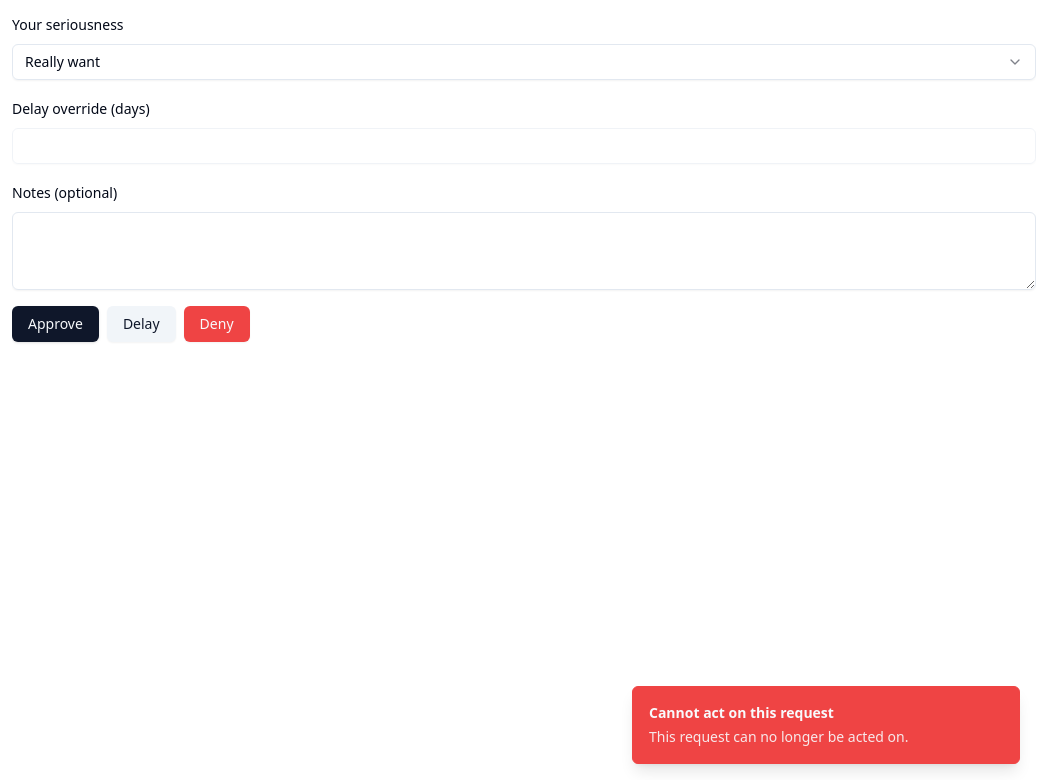
ApproverAction › enables delay override input and shows duration preview when typed
The width and height of the screenshot is (1048, 780).
Step 1. Click the button "Delay" → (141,324), box [107,306,176,342]
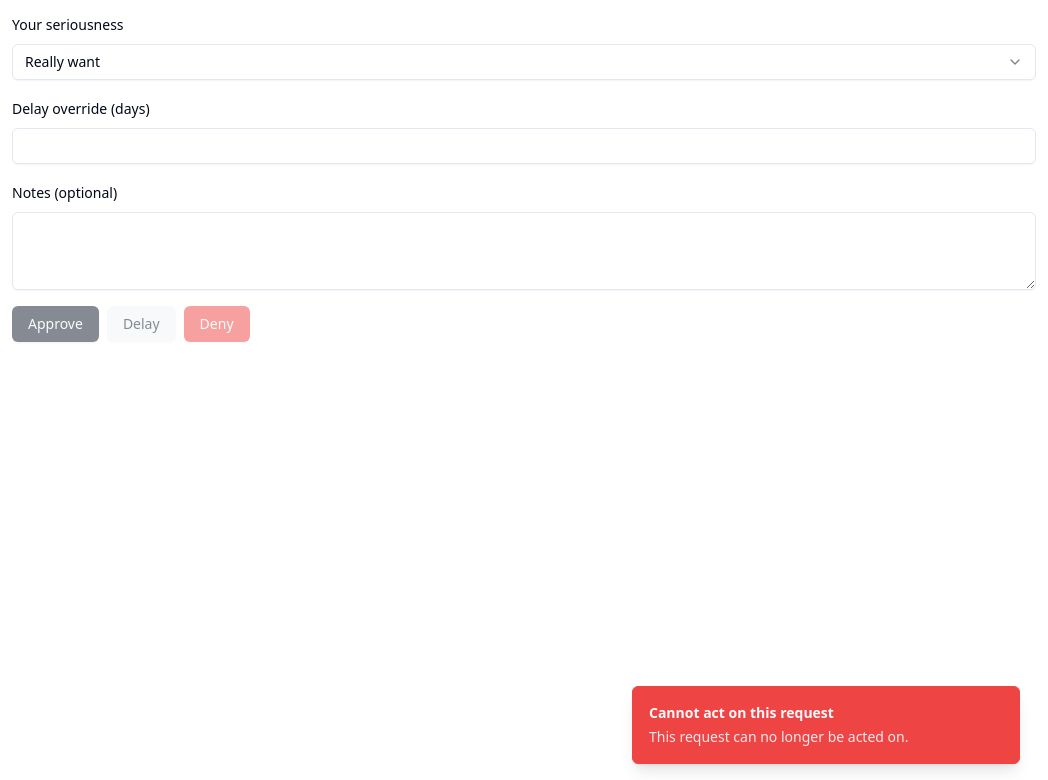
Step 2. Type "5" into the number field labelled "Delay override (days)" → (524,146), box [12,128,1036,164]
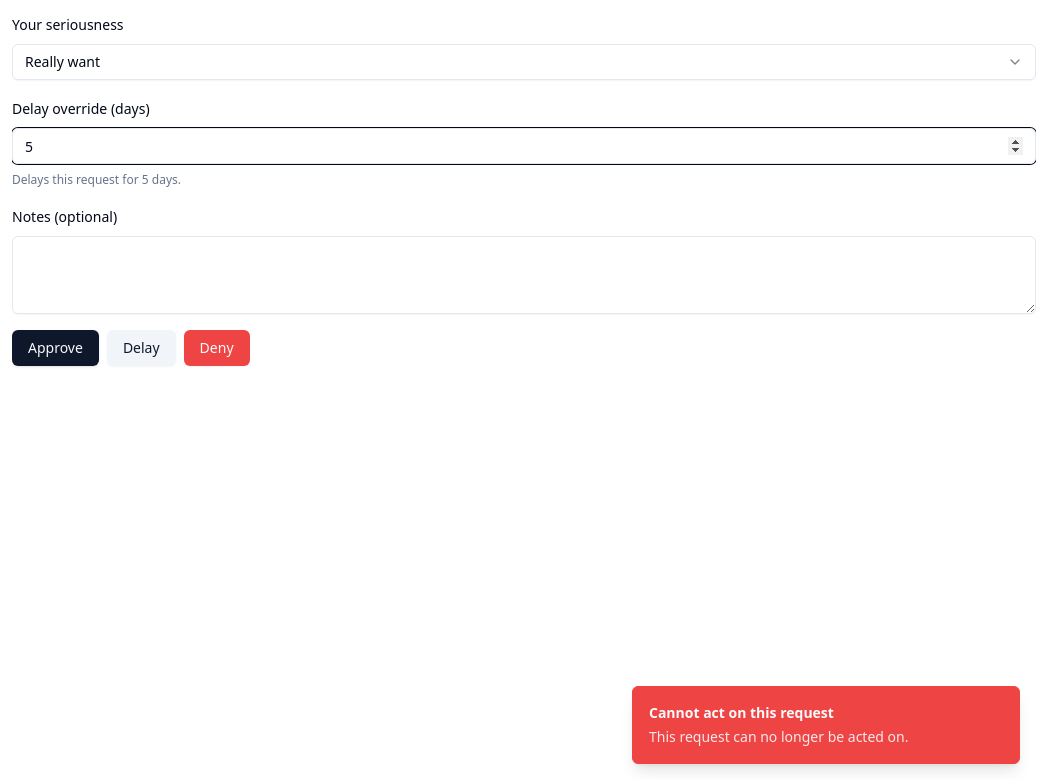
Now the text "Delays this request for 5 days." is shown, box [12,171,181,188]
